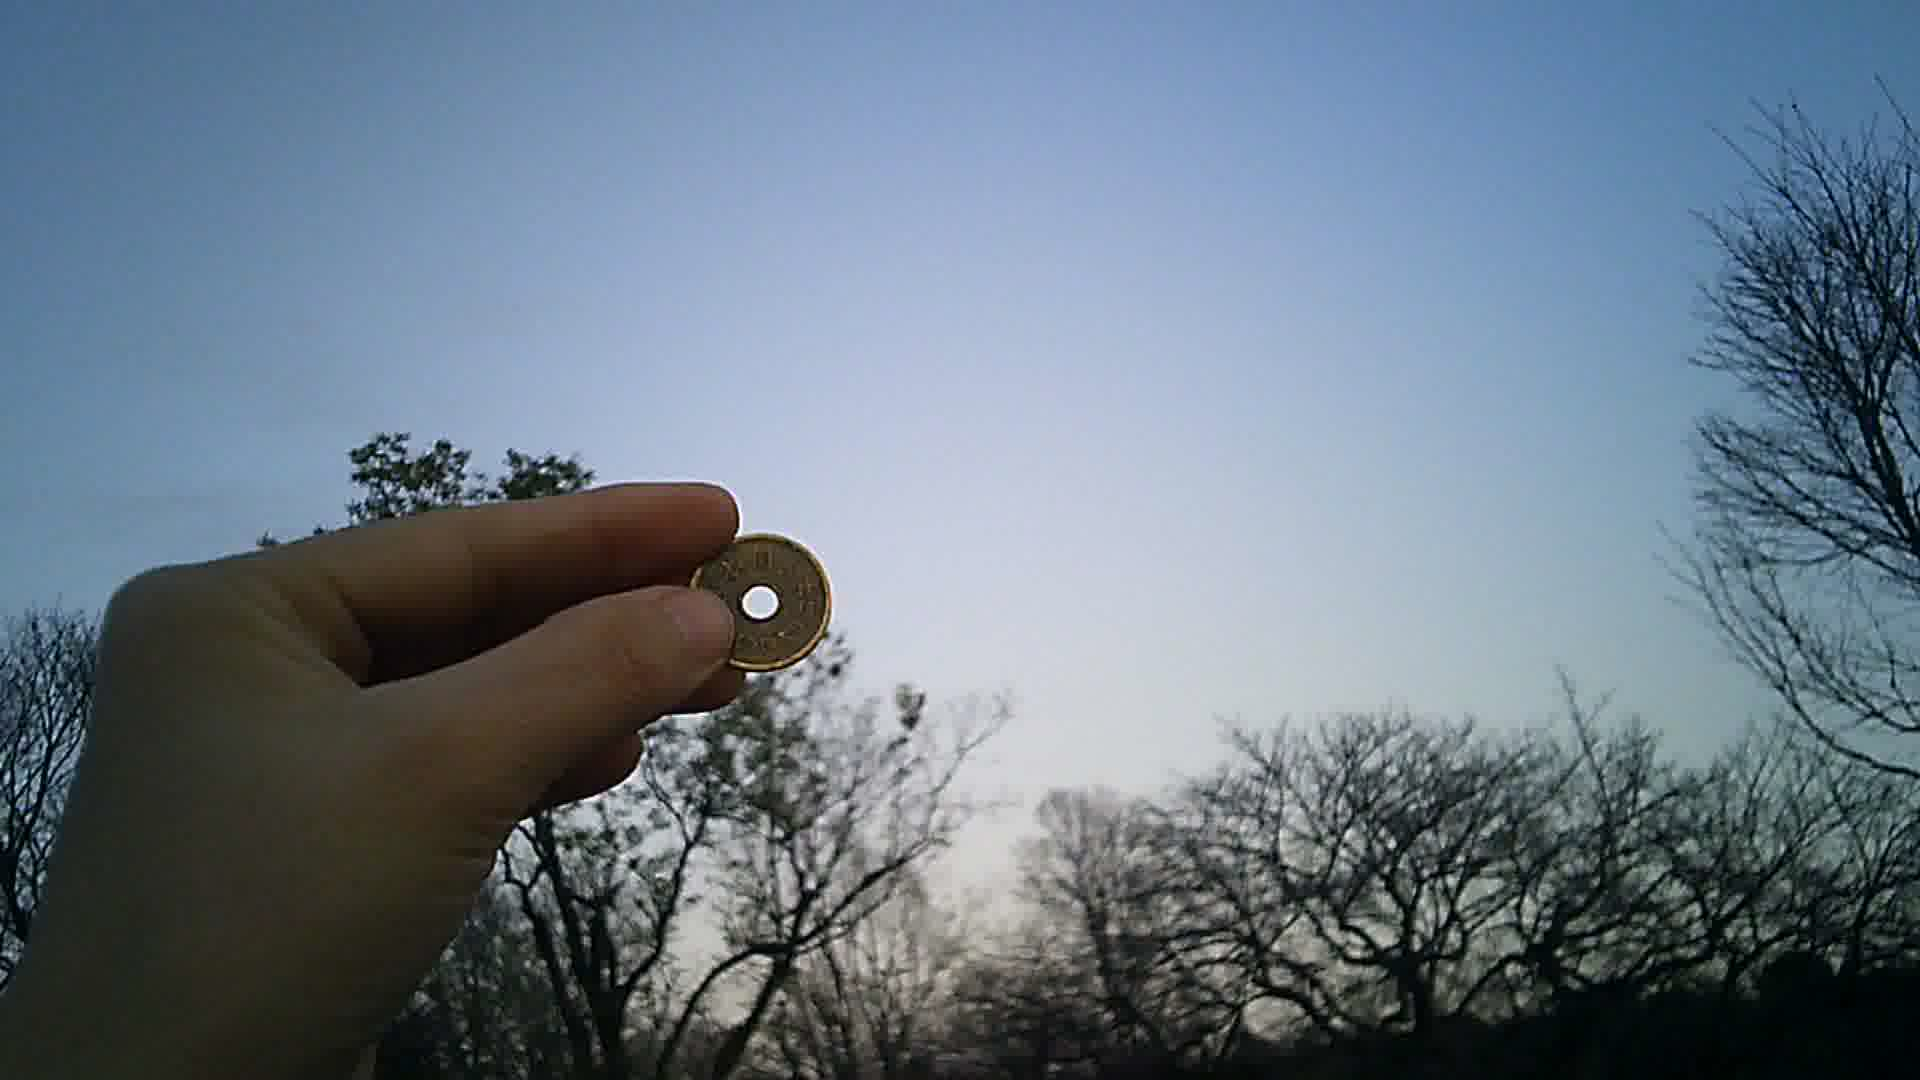5 Yen: (675, 524, 841, 674)
